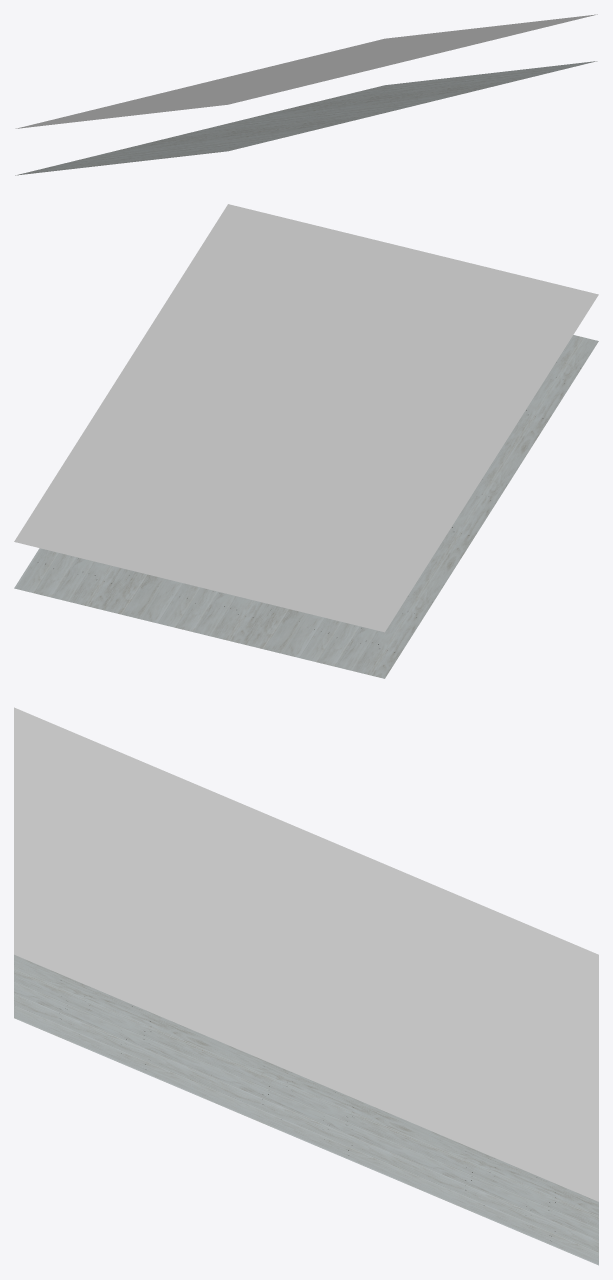
Rendered from SM_Roof_02_Mid_Mid_01.fbx.
3 views of the same model, one above another, from view 1: azimuth 30°, elevation 25°; view 2: azimuth 150°, elevation 25°; view 3: azimuth 270°, elevation 25° (orthographic). The views are drawn at different scales.
Visible parts, largest first — view 1: SM_Roof_02_Mid_Mid_01_LOD0; view 2: SM_Roof_02_Mid_Mid_01_LOD0; view 3: SM_Roof_02_Mid_Mid_01_LOD0.
Boxes of the visible parts, x1,y1,x2,y2 form: SM_Roof_02_Mid_Mid_01_LOD0: (15, 14, 597, 175); SM_Roof_02_Mid_Mid_01_LOD0: (14, 204, 598, 678); SM_Roof_02_Mid_Mid_01_LOD0: (14, 707, 598, 1265).
Size of the model in its own units: 150 by 150 by 88.
